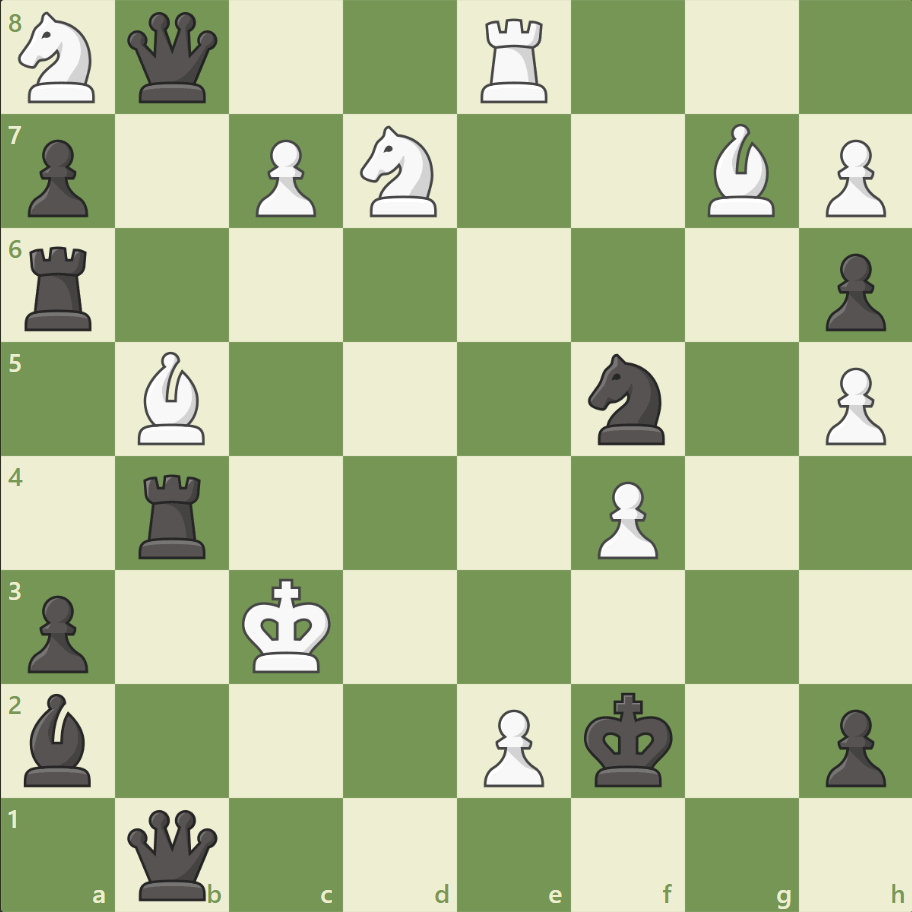B: (698, 120, 782, 222), (131, 347, 215, 449)
K: (238, 571, 338, 679)
N: (351, 121, 449, 223), (11, 7, 108, 110)
P: (247, 132, 322, 223), (474, 700, 549, 791), (815, 132, 889, 223), (815, 359, 889, 450), (588, 473, 662, 564)
R: (473, 12, 556, 109)
b: (17, 687, 101, 790)
k: (579, 685, 679, 793)
n: (579, 348, 676, 450)
p: (20, 132, 95, 223), (20, 586, 95, 677), (815, 246, 889, 337), (815, 700, 889, 791)
q: (124, 9, 223, 108), (124, 804, 223, 903)
r: (19, 239, 102, 336), (133, 466, 215, 563)
